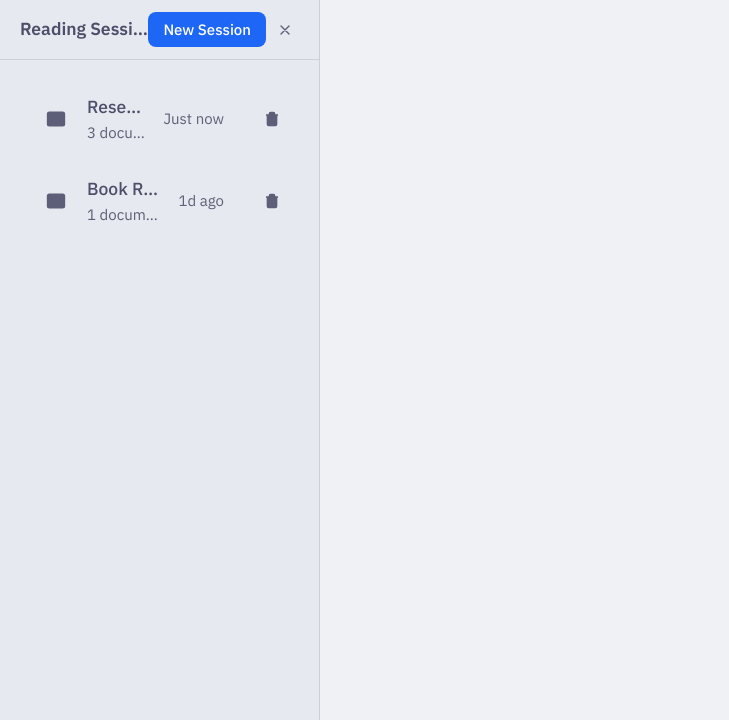
Test: SessionMenu › delete session › shows delete confirmation on first click
Click the 1st button named "delete session": point(272, 118) left=254, top=101, right=289, bottom=136
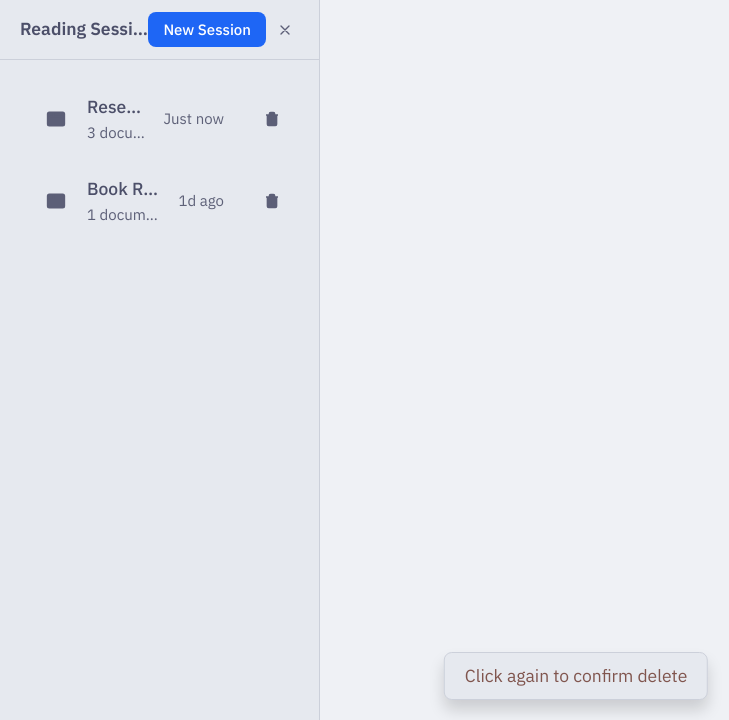
Check: the text "Click again to confirm delete" is shown, box left=444, top=652, right=708, bottom=700
